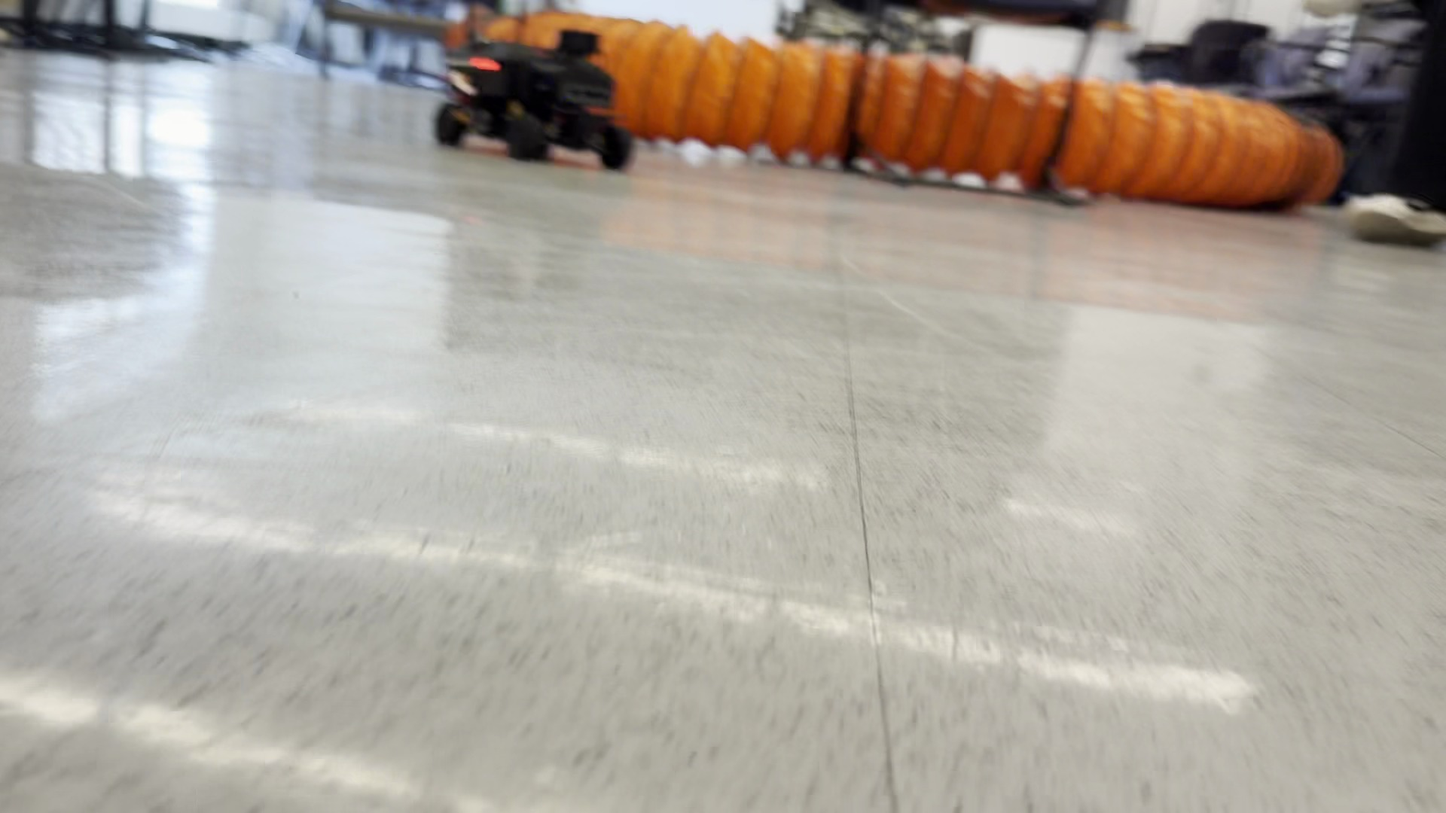racecar: (436, 27, 632, 172)
